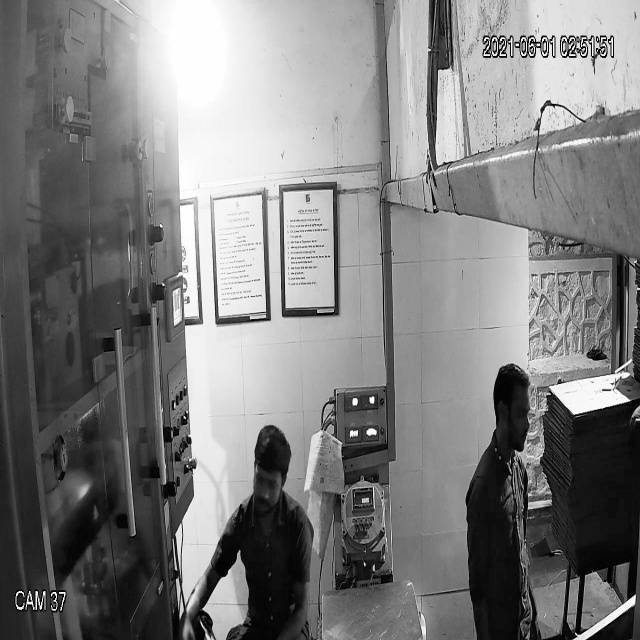Sin_gafas: (248, 458, 288, 497)
